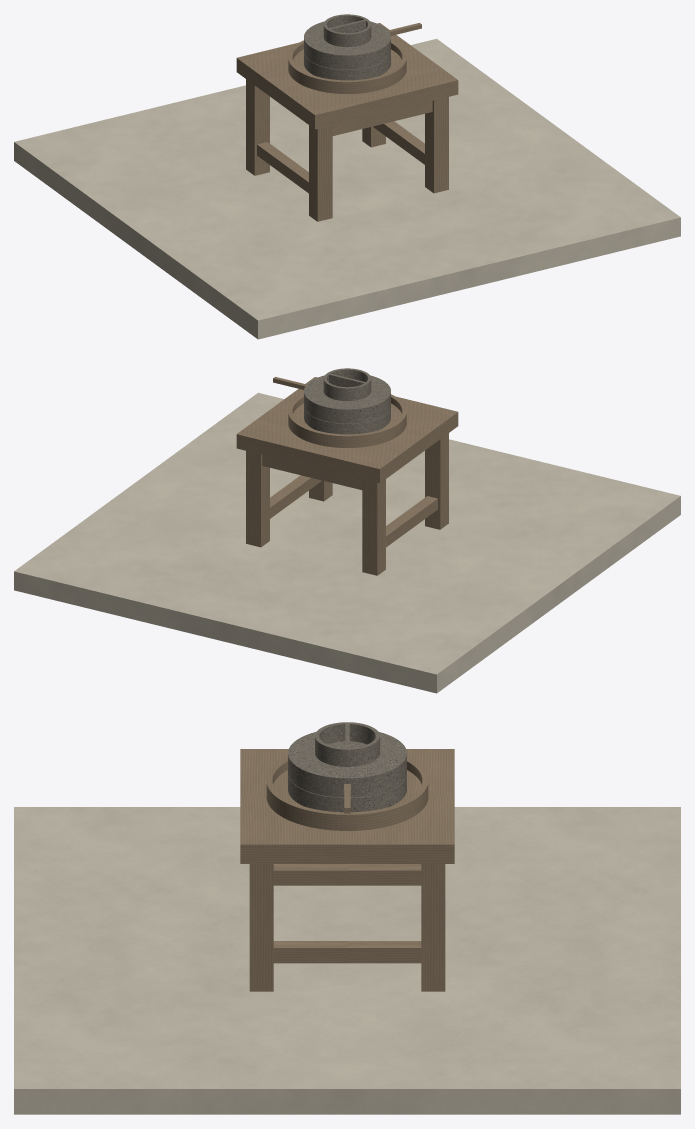
File: hand-mill-A.glb
3 views of the same model, one above another, from view 1: azimuth 30°, elevation 25°; view 2: azimuth 150°, elevation 25°; view 3: azimuth 270°, elevation 25° (orthographic). The views are drawn at different scales.
Visible parts, largest first — view 1: A_presentation_ground, A_wood_bed_C, A_upper_stone_C, A_stand_post_C, A_stand_post_C.002, A_stand_post_C.001, A_collection_lip_C, A_stand_apron_C, A_feed_ring_C, A_collection_floor_C, A_stand_cross_tie_C, A_lower_stone_C (+1 smaller); view 2: A_presentation_ground, A_wood_bed_C, A_upper_stone_C, A_stand_post_C.001, A_stand_post_C.003, A_stand_post_C, A_collection_lip_C, A_stand_apron_C.001, A_feed_ring_C, A_collection_floor_C, A_stand_cross_tie_C, A_lower_stone_C (+1 smaller); view 3: A_presentation_ground, A_wood_bed_C, A_upper_stone_C, A_stand_cross_tie_C.001, A_stand_cross_tie_C, A_stand_post_C.002, A_stand_post_C.003, A_collection_lip_C, A_feed_ring_C, A_collection_floor_C, A_lower_stone_C.
Part boxes in pixels (x1,y1,x2,y2): A_presentation_ground: (14, 38, 680, 339); A_wood_bed_C: (236, 23, 458, 129); A_upper_stone_C: (304, 21, 390, 69); A_stand_post_C: (309, 125, 332, 221); A_stand_post_C.002: (425, 97, 448, 193); A_stand_post_C.001: (246, 79, 269, 175); A_collection_lip_C: (288, 40, 406, 88); A_stand_apron_C: (332, 101, 432, 135); A_feed_ring_C: (323, 14, 371, 46); A_collection_floor_C: (288, 49, 406, 93); A_stand_cross_tie_C: (257, 142, 308, 193); A_lower_stone_C: (304, 53, 390, 80); A_presentation_ground: (14, 392, 680, 693); A_wood_bed_C: (236, 377, 458, 483); A_upper_stone_C: (304, 375, 390, 423); A_stand_post_C.001: (362, 479, 385, 575); A_stand_post_C.003: (246, 451, 269, 547); A_stand_post_C: (425, 433, 448, 529); A_collection_lip_C: (288, 394, 406, 442); A_stand_apron_C.001: (262, 455, 362, 489); A_feed_ring_C: (323, 368, 371, 400); A_collection_floor_C: (288, 403, 406, 447); A_stand_cross_tie_C: (386, 496, 437, 547); A_lower_stone_C: (304, 407, 390, 434); A_presentation_ground: (14, 807, 680, 1114); A_wood_bed_C: (240, 749, 454, 863); A_upper_stone_C: (288, 731, 406, 797); A_stand_cross_tie_C.001: (273, 941, 421, 963); A_stand_cross_tie_C: (273, 864, 421, 885); A_stand_post_C.002: (249, 864, 273, 991); A_stand_post_C.003: (421, 864, 445, 991); A_collection_lip_C: (266, 757, 428, 823); A_feed_ring_C: (315, 722, 379, 766); A_collection_floor_C: (266, 770, 428, 830); A_lower_stone_C: (288, 775, 406, 812).
Size of the model in its own units: 2.8 by 1.1 by 2.8.
Materials: 3 (3 with a texture image).
